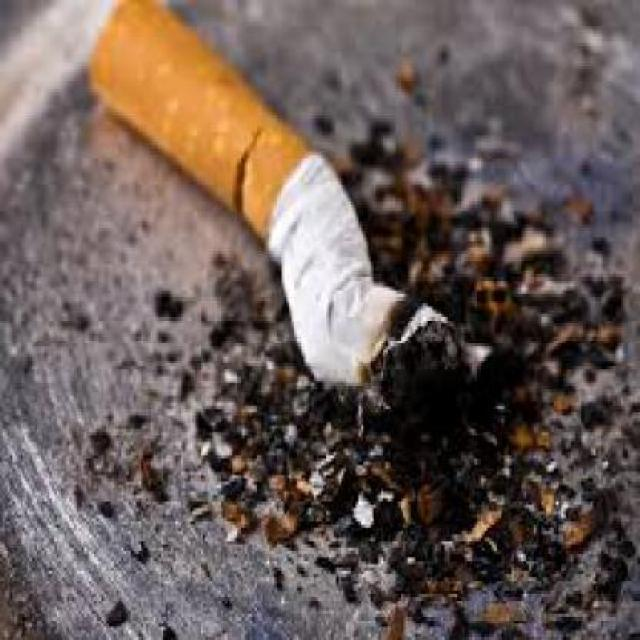cigarette: (79, 0, 508, 420)
